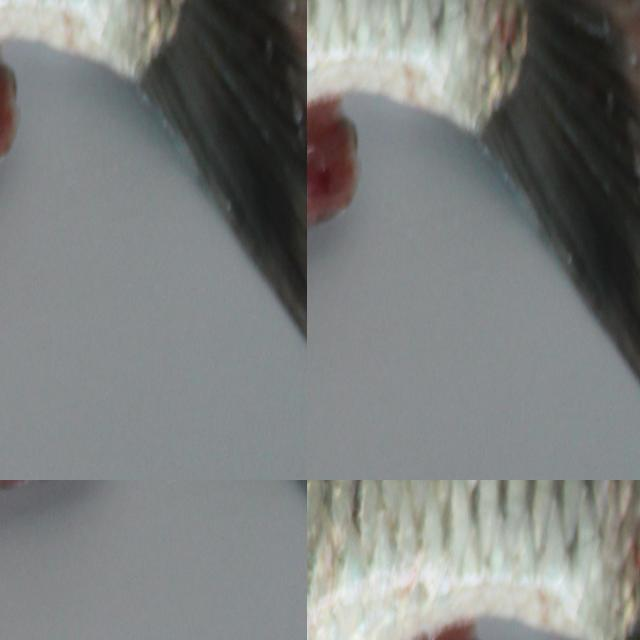fish: (307, 480, 640, 640)
